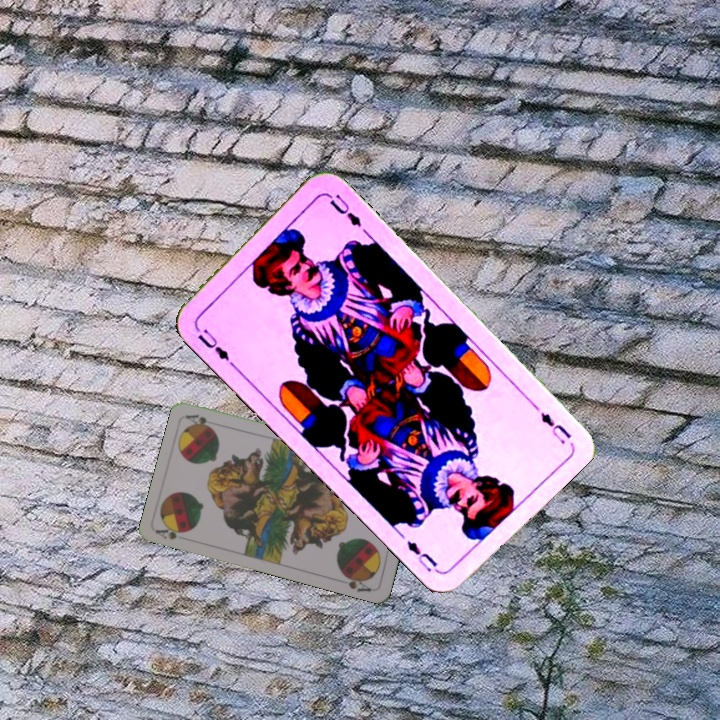EU: (193, 325, 237, 369), (536, 408, 574, 447)
SA: (153, 521, 191, 542)
